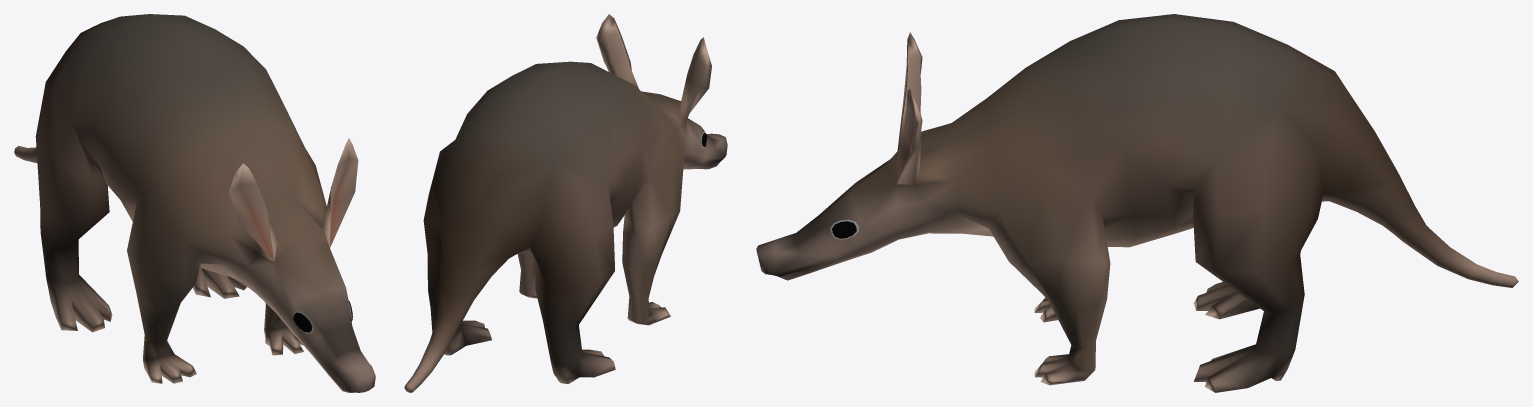
3 views of the same model, side by side, from view 1: azimuth 30°, elevation 25°; view 2: azimuth 150°, elevation 25°; view 3: azimuth 270°, elevation 25° (orthographic). The views are drawn at different scales.
Visible parts, largest first — view 1: base.050; view 2: base.050; view 3: base.050.
Part boxes in pixels (box(x1,y1,x2,y2)): base.050: box(14, 14, 375, 392); base.050: box(404, 14, 727, 392); base.050: box(756, 14, 1518, 392).
Size of the model in its own units: 0.1597 by 0.2327 by 0.5.
